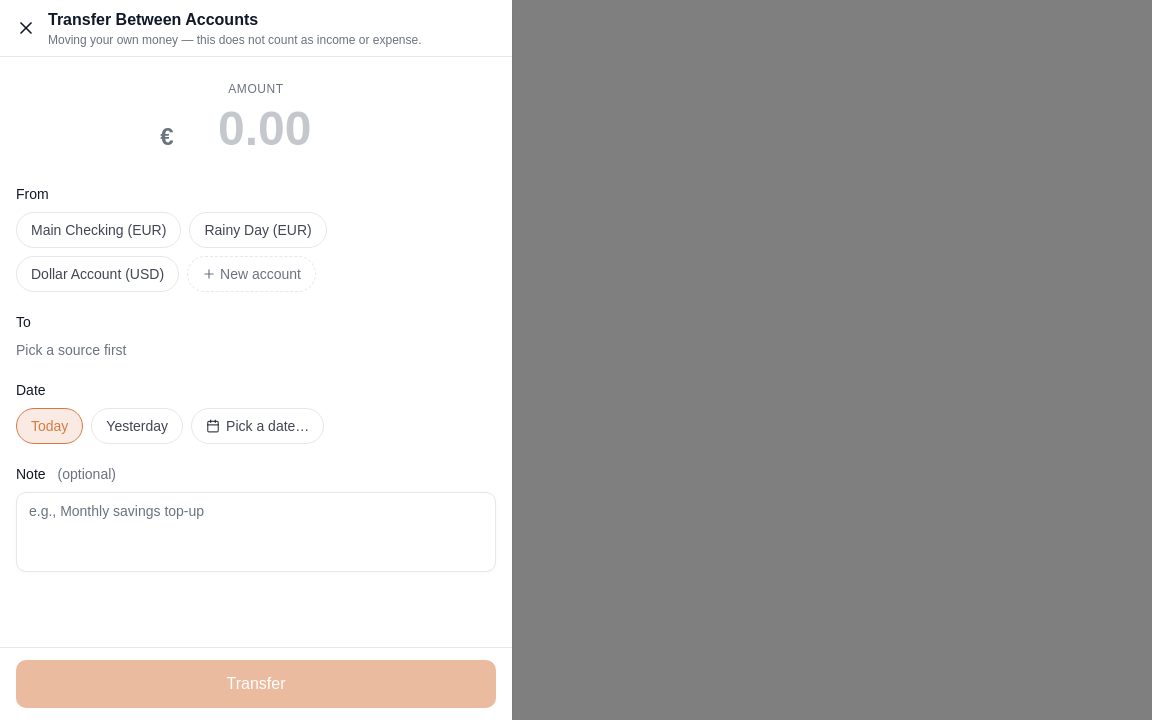
Test case: TransferFormModal › offers the savings-goal link for any destination the goal's currency fits
Click the radio button labelled "Rainy Day (EUR)". click: (258, 230)
box: [189, 212, 327, 248]
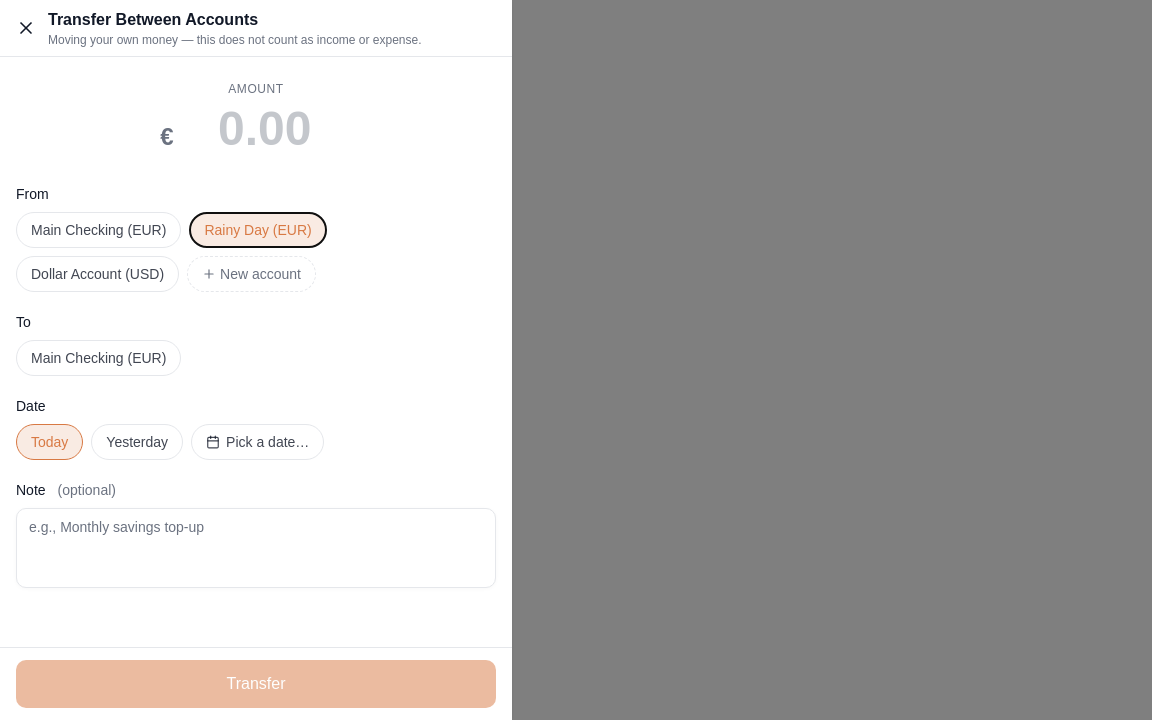
Check: the text "count this toward a savings goal" is not shown
Click the 2nd radio button labelled "Main Checking (EUR)". click: (99, 358)
box: [16, 340, 181, 376]
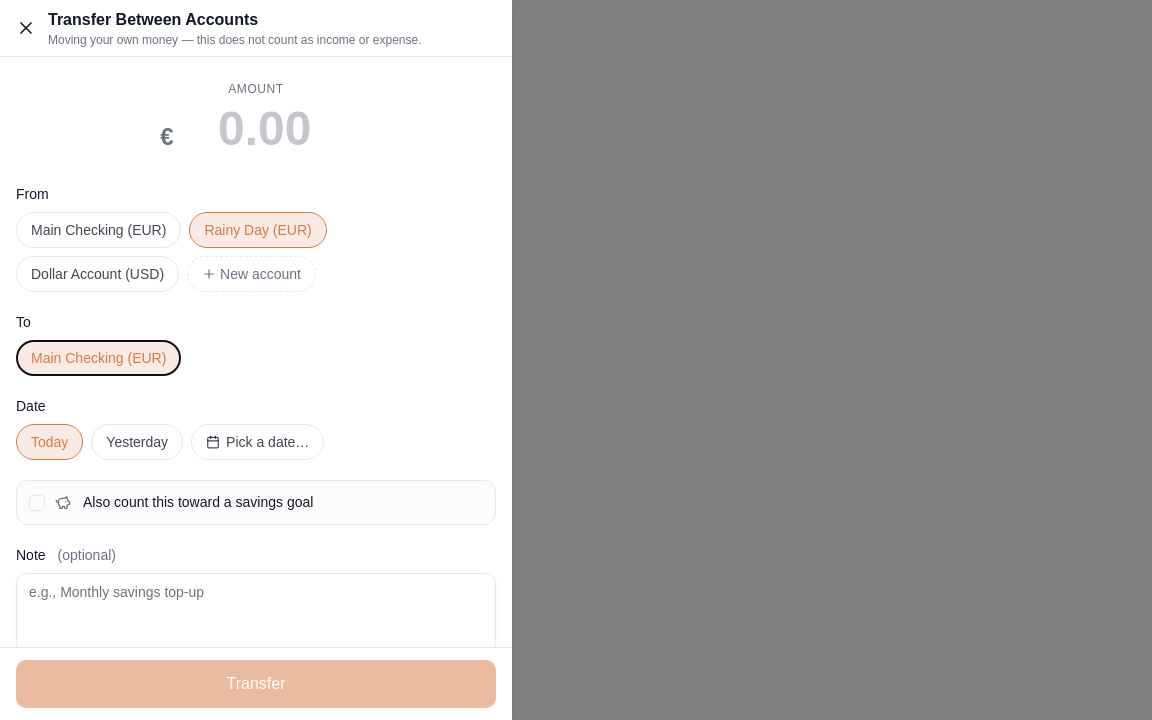
Check: the text "Also count this toward a savings goal" is shown, box [55, 493, 313, 512]
